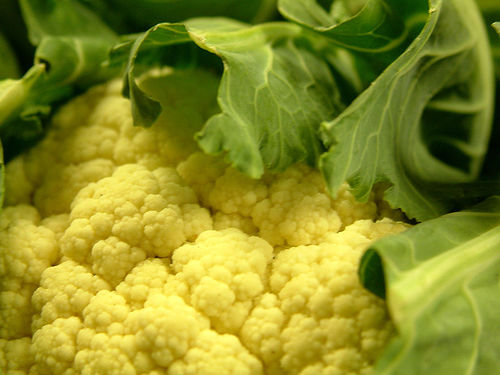cauliflower: (0, 59, 420, 374)
